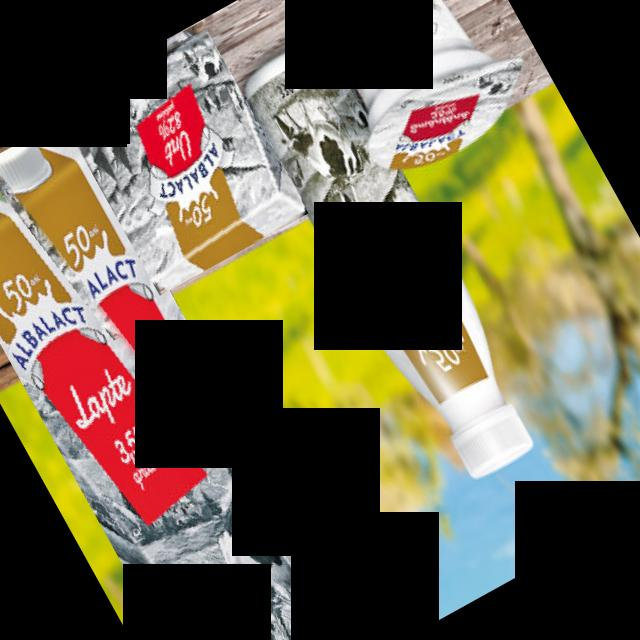butter: (54, 21, 309, 296)
milk: (0, 113, 372, 640)
